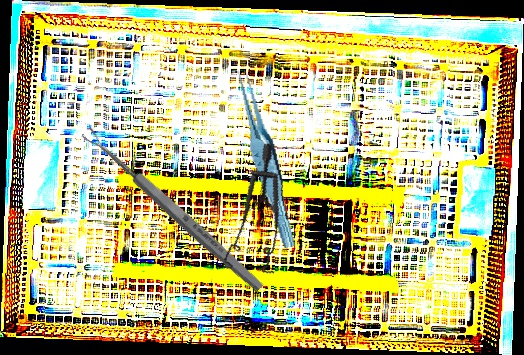Speculum: (191, 142, 310, 288)
Surgical Spoon: (80, 124, 266, 295)
Tissue Forceps: (234, 65, 298, 251)
